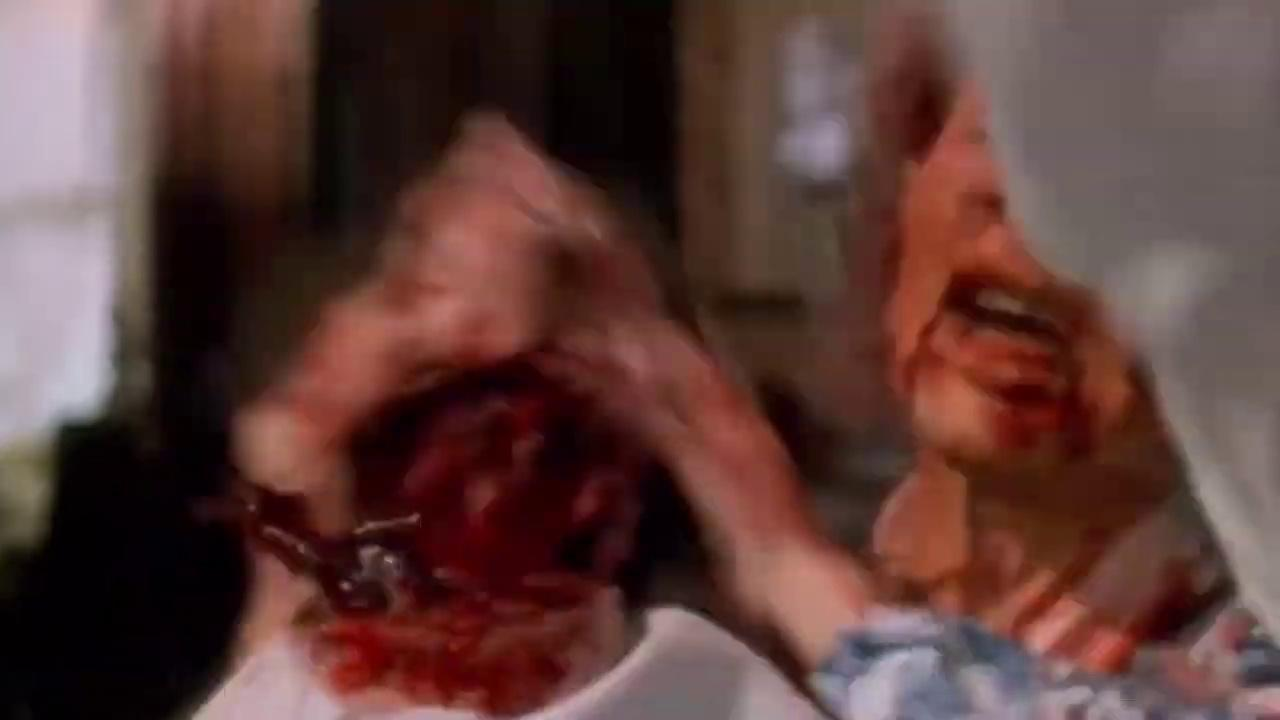Fire: (247, 268, 1237, 716)
